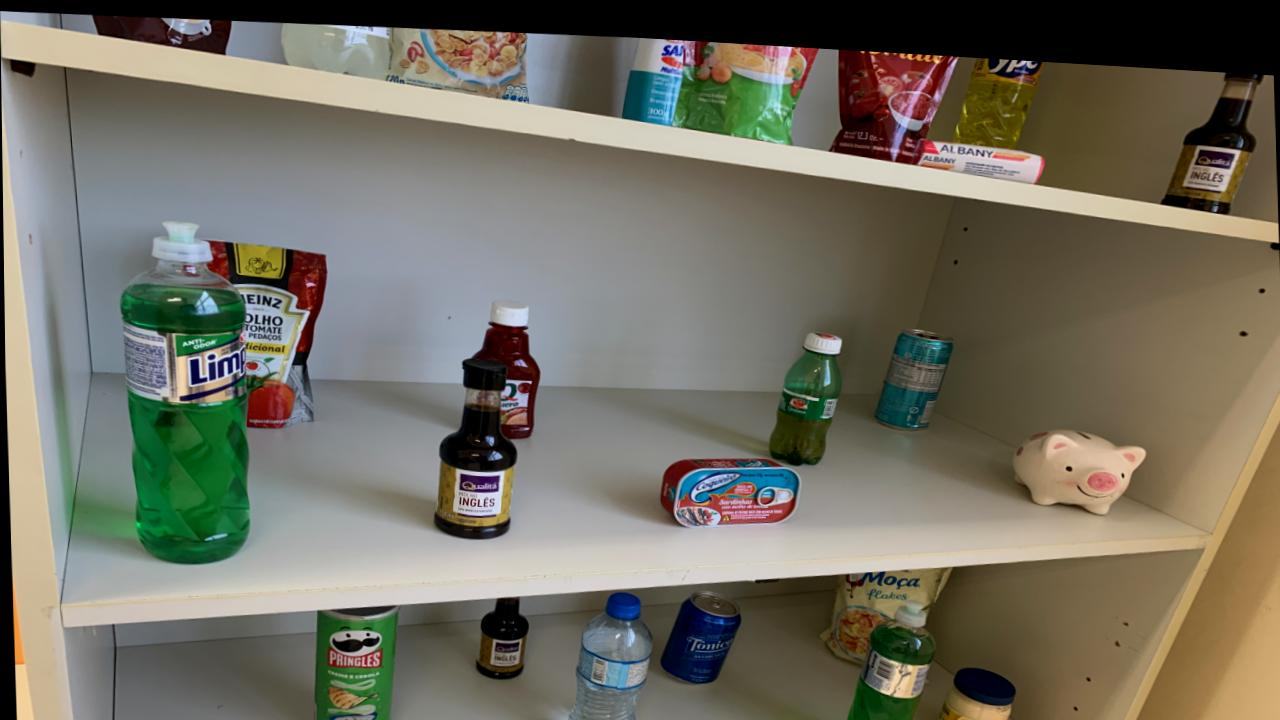Cleaner-Cleanup_Items: (621, 30, 684, 117)
Coffee-Pantry_Items: (94, 14, 232, 51), (650, 60, 652, 64)
Detergent-Cleanup_Items: (120, 220, 249, 562), (843, 589, 934, 720), (954, 46, 1044, 136)
English_Sauce-Pantry_Items: (433, 353, 516, 533), (1163, 57, 1264, 199), (475, 590, 526, 673)
Flakes-Snacks: (818, 556, 951, 651), (385, 23, 528, 96)
Guarana-Drinks: (768, 323, 841, 456)
Ketchup-Pantry_Items: (473, 294, 539, 433)
Mayonnaise-Pantry_Items: (933, 656, 1015, 720)
Pig_Safe-Miscellaneous: (1013, 417, 1145, 501)
Pringles-Snacks: (311, 600, 396, 720)
Soap-Cleanup_Items: (917, 128, 1044, 171)
Soda-Drinks: (281, 19, 390, 75)
Tea-Drinks: (874, 317, 952, 420)
Tomato_Sauce-Pantry_Items: (206, 237, 326, 424), (829, 39, 959, 152), (684, 33, 819, 135)
Tonic-Drinks: (659, 583, 738, 675)
Tuna_Can-Pantry_Items: (659, 449, 799, 519)
Water_Bottle-Drinks: (564, 586, 651, 720)
